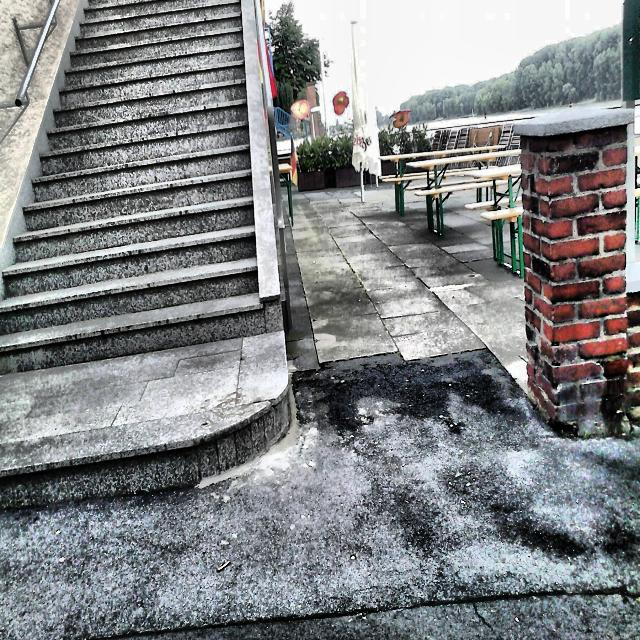escada: (0, 0, 275, 375)
